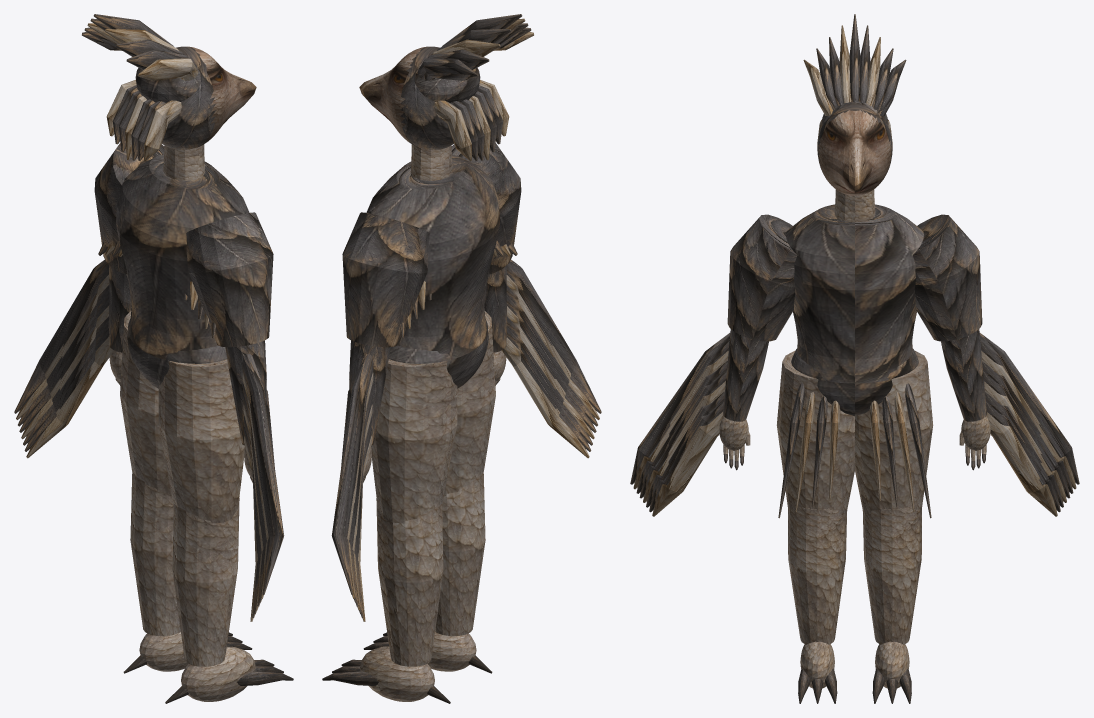
File: urituorko.obj
3 renders of one model, left to right at view 1: azimuth 30°, elevation 25°; view 2: azimuth 150°, elevation 25°; view 3: azimuth 270°, elevation 25°, orthographic. The views are drawn at different scales.
Parts seen in each view (by area): view 1: torso_slate, left_thigh_skin, left_upper_slate, left_shin_skin, right_shin_skin, right_thigh_skin, left_wing_feather_7_slate, head_slate, right_upper_slate, left_foot_skin, right_wing_feather_7_slate, head_face (+30 smaller); view 2: torso_slate, right_thigh_skin, right_upper_slate, right_shin_skin, left_shin_skin, left_thigh_skin, right_wing_feather_7_slate, head_slate, left_upper_slate, right_foot_skin, left_wing_feather_7_slate, head_face (+30 smaller); view 3: torso_slate, left_upper_slate, right_upper_slate, left_shin_skin, right_shin_skin, right_thigh_skin, left_thigh_skin, head_face, left_fore_slate, right_fore_slate, pelvis_slate, right_wing_feather_7_slate (+27 smaller).
Boxes of the visible parts, box(x1,y1,x2,y2) form: torso_slate: box(116, 154, 249, 359); left_thigh_skin: box(158, 359, 244, 523); left_upper_slate: box(186, 212, 273, 347); left_shin_skin: box(172, 498, 239, 666); right_shin_skin: box(130, 472, 180, 636); right_thigh_skin: box(120, 311, 171, 495); left_wing_feather_7_slate: box(242, 354, 284, 594); head_slate: box(162, 46, 215, 149); right_upper_slate: box(94, 143, 164, 274); left_foot_skin: box(181, 646, 255, 701); right_wing_feather_7_slate: box(14, 259, 108, 413); head_face: box(188, 46, 256, 143); torso_slate: box(366, 154, 499, 359); right_thigh_skin: box(371, 359, 457, 523); right_upper_slate: box(342, 212, 429, 347); right_shin_skin: box(376, 498, 443, 666); left_shin_skin: box(435, 472, 485, 636); left_thigh_skin: box(444, 311, 495, 495); right_wing_feather_7_slate: box(331, 354, 373, 594); head_slate: box(400, 46, 453, 149); left_upper_slate: box(451, 143, 521, 274); right_foot_skin: box(360, 646, 434, 701); left_wing_feather_7_slate: box(507, 259, 601, 413); head_face: box(359, 46, 426, 142); torso_slate: box(786, 204, 923, 383); left_upper_slate: box(727, 214, 797, 341); right_upper_slate: box(913, 214, 982, 341); left_shin_skin: box(788, 506, 847, 644); right_shin_skin: box(862, 506, 921, 644); right_thigh_skin: box(855, 350, 933, 513); left_thigh_skin: box(776, 350, 854, 513); head_face: box(818, 110, 891, 195); left_fore_slate: box(723, 329, 768, 421); right_fore_slate: box(941, 329, 986, 421); pelvis_slate: box(791, 349, 918, 416); right_wing_feather_7_slate: box(979, 333, 1079, 484).
Bounding box in the file's own units: 25.48 × 100 × 65.05.
Materials: 1 (1 with a texture image).
